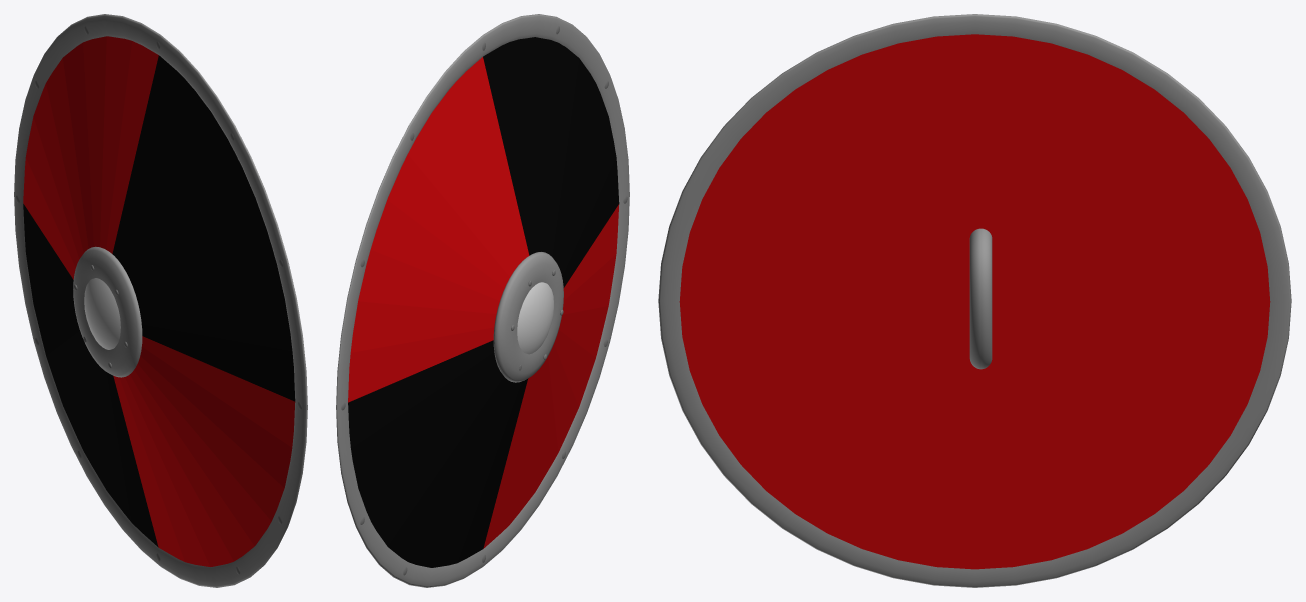
Rendered from shield.fbx.
3 renders of one model, left to right at view 1: azimuth 30°, elevation 25°; view 2: azimuth 150°, elevation 25°; view 3: azimuth 270°, elevation 25°, orthographic. The views are drawn at different scales.
Visible parts, largest first — view 1: Cone, Torus, Torus.001, Sphere; view 2: Cone, Torus, Torus.001, Sphere; view 3: Cone, Torus, NurbsPath.
Part boxes in pixels (box(x1,y1,x2,y2)): Cone: box(23, 36, 295, 566); Torus: box(14, 14, 307, 587); Torus.001: box(73, 246, 142, 377); Sphere: box(84, 278, 120, 349); Cone: box(348, 37, 619, 567); Torus: box(336, 14, 629, 587); Torus.001: box(493, 252, 563, 382); Sphere: box(517, 282, 553, 354); Cone: box(679, 34, 1270, 569); Torus: box(658, 14, 1291, 587); NurbsPath: box(969, 228, 992, 369).
Bounding box in the file's own units: 43.7 × 207 × 207.
